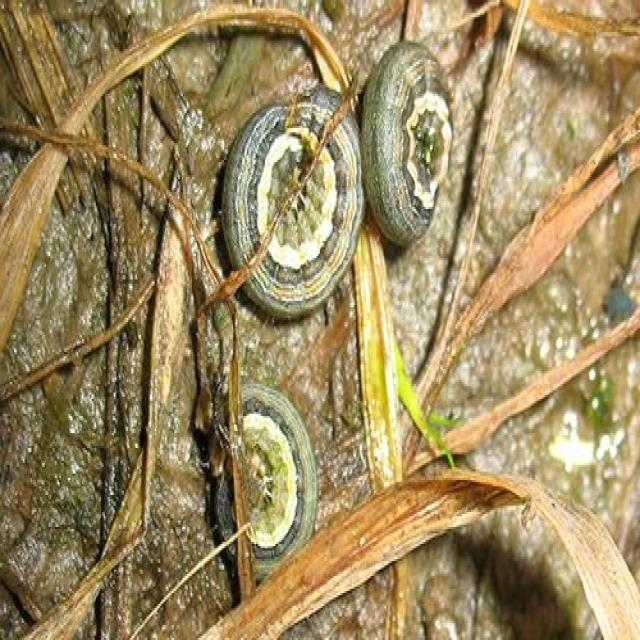army worm: (204, 89, 364, 335), (200, 381, 317, 581), (361, 37, 455, 255)
